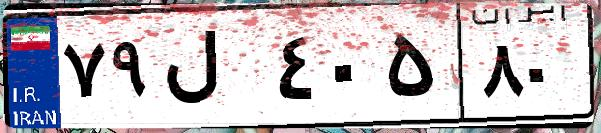0: (330, 28, 385, 110), (525, 38, 570, 115)
4: (270, 28, 330, 110)
5: (385, 28, 445, 110)
7: (57, 26, 110, 100)
8: (475, 38, 525, 113)
9: (110, 28, 158, 98)
ل: (158, 20, 270, 120)
